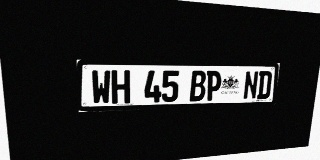4: (144, 70, 162, 103)
5: (162, 70, 179, 102)
B: (190, 71, 206, 101)
D: (257, 71, 272, 99)
H: (111, 70, 130, 104)
N: (243, 71, 259, 100)
P: (205, 71, 222, 101)
W: (91, 70, 111, 105)
